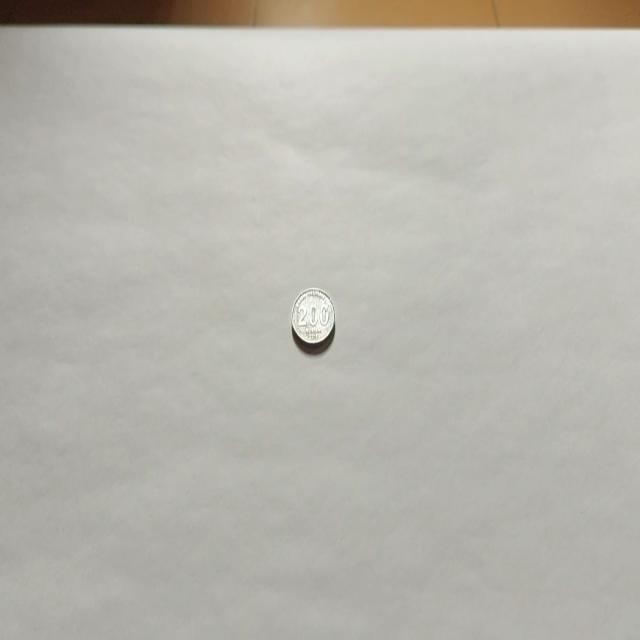dua ratus rupiah: (290, 285, 336, 351)
